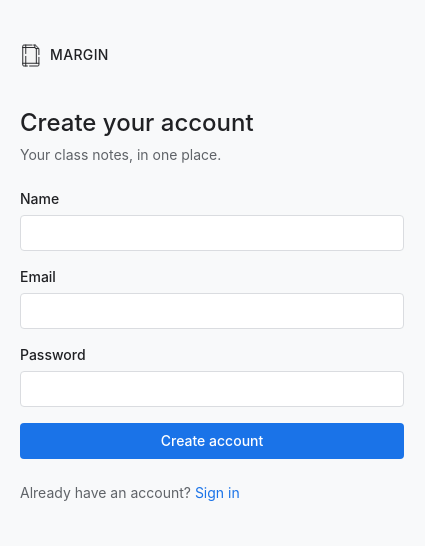
SignUpPage › surfaces an actionable message when signup fails
Type "Test Student" into the field labelled "Name" at (212, 233), box top-left (20, 215), bottom-right (404, 251)
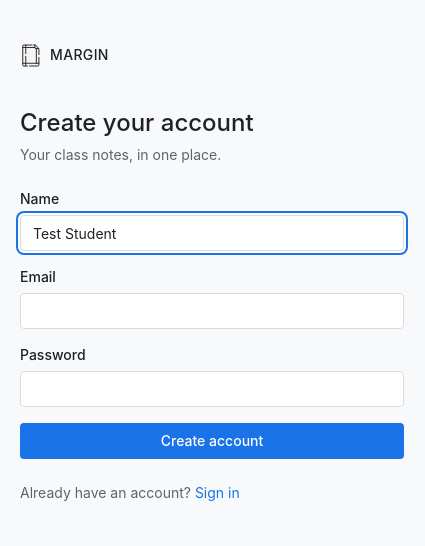
Type "student@example.com" into the field labelled "Email" at (212, 311), box top-left (20, 293), bottom-right (404, 329)
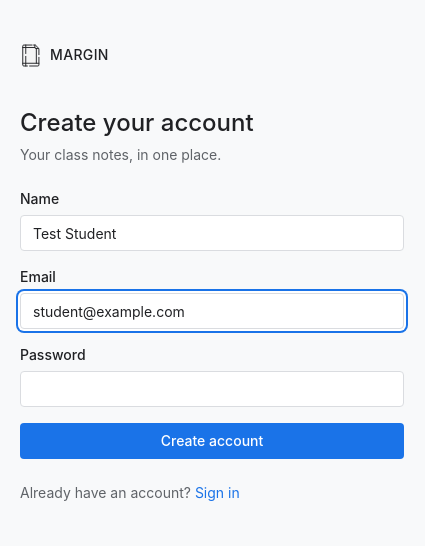
Type "TestPassword123!" into the password field labelled "Password" at (212, 389), box top-left (20, 371), bottom-right (404, 407)
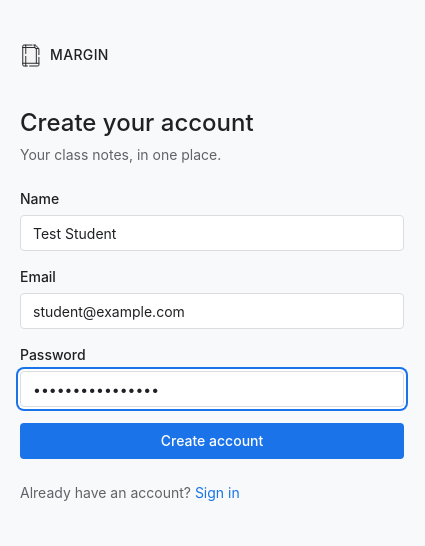
Click the button "Create account" at (212, 441), box top-left (20, 423), bottom-right (404, 459)
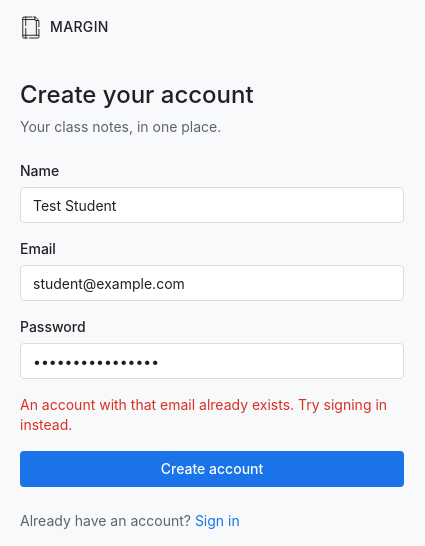
Expected: the message shows "An account with that email already exists.", top-left (20, 396), bottom-right (387, 433)
